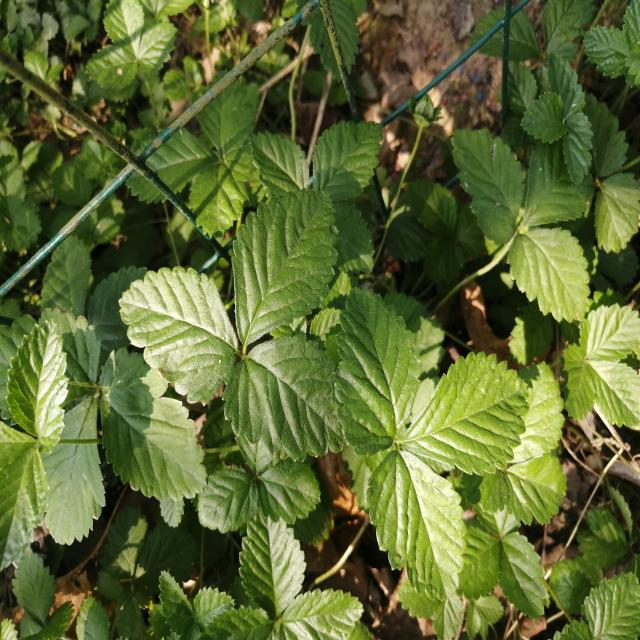Mock_strawberry: (117, 208, 363, 474), (340, 286, 546, 589)
